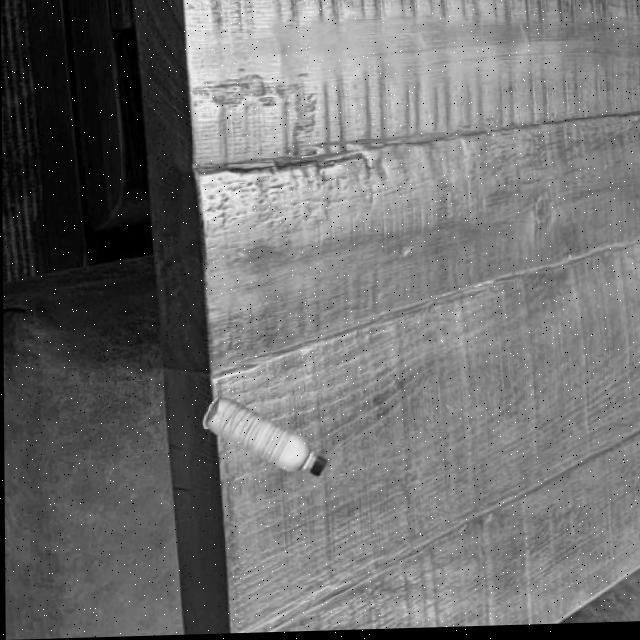bottle: (199, 394, 328, 482)
